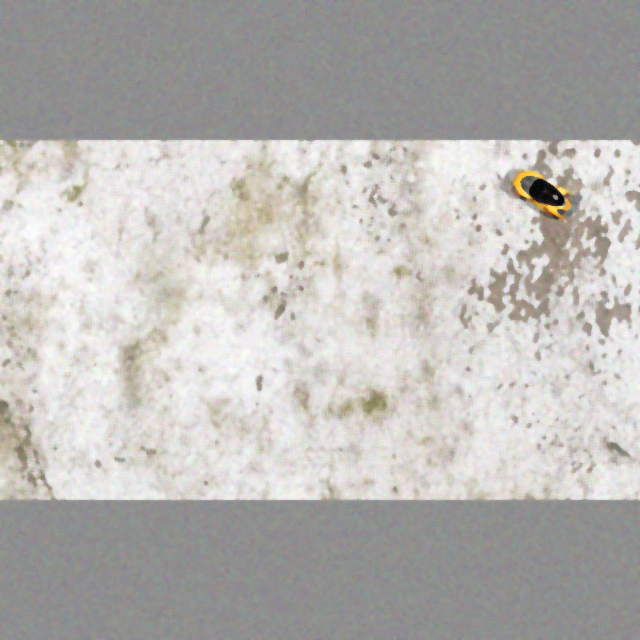car: (506, 162, 585, 225)
